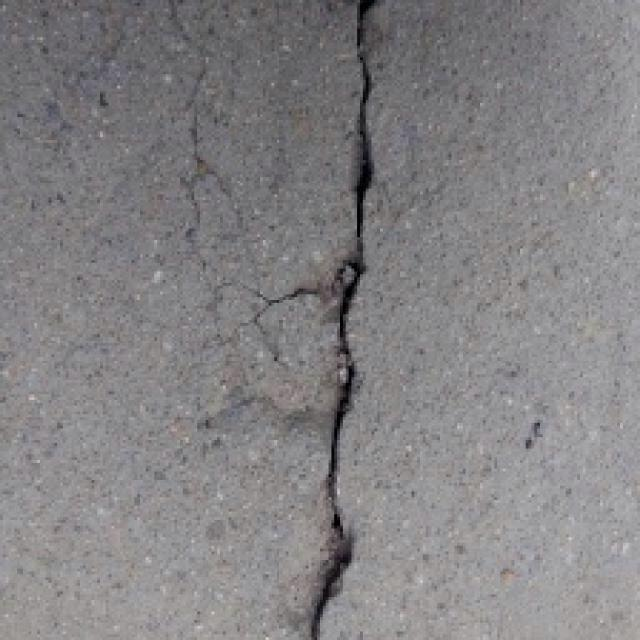SurfaceCrack: (256, 0, 416, 640)
